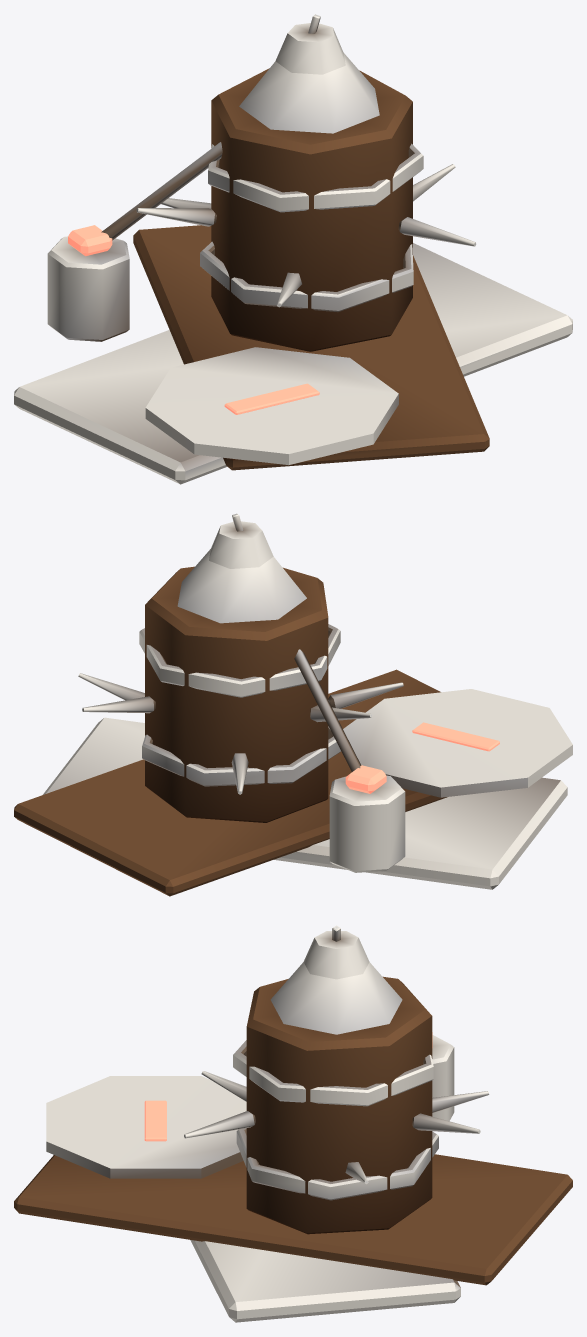
The model's file is R4D_ExplosiveTrap_LOD1.fbx.
3 renders of one model, top to bottom at view 1: azimuth 30°, elevation 25°; view 2: azimuth 150°, elevation 25°; view 3: azimuth 270°, elevation 25°, orthographic. The views are drawn at different scales.
Parts seen in each view (by area): view 1: R4D_ExplosiveTrap_LOD1; view 2: R4D_ExplosiveTrap_LOD1; view 3: R4D_ExplosiveTrap_LOD1.
Boxes of the visible parts, x1,y1,x2,y2 form: R4D_ExplosiveTrap_LOD1: (14, 14, 572, 484); R4D_ExplosiveTrap_LOD1: (14, 513, 572, 896); R4D_ExplosiveTrap_LOD1: (14, 925, 572, 1322).
Bounding box in the file's own units: 0.4716 × 0.2999 × 0.4948.
